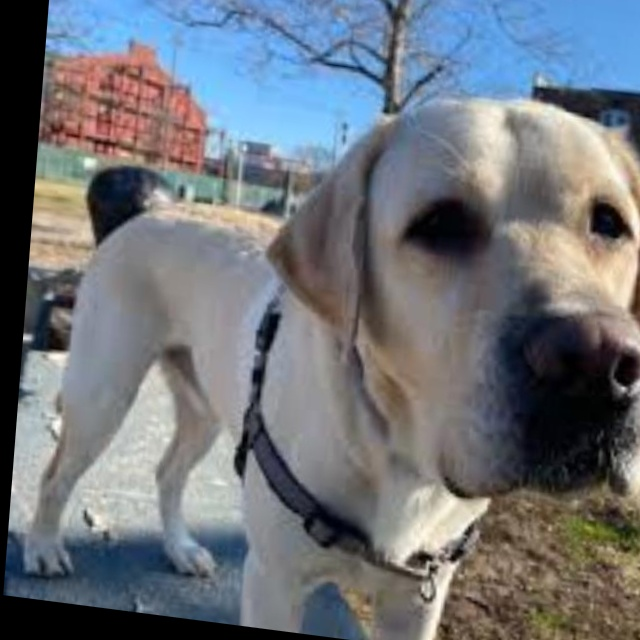dog: (39, 1, 640, 640)
